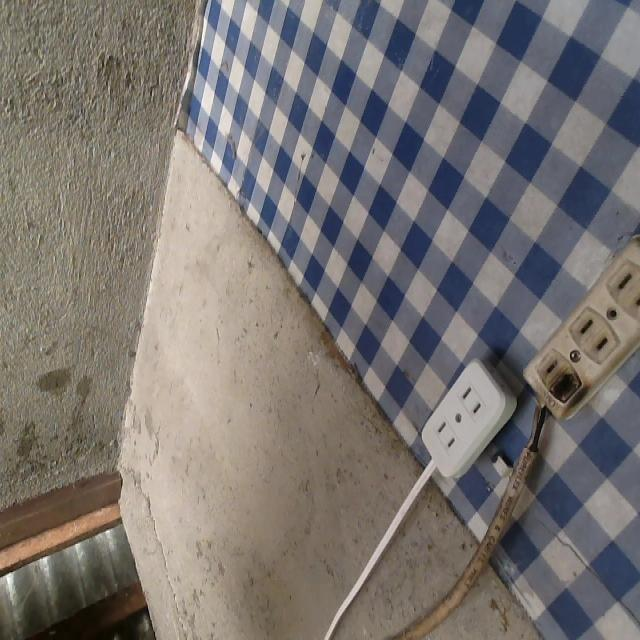-: (542, 357, 589, 416)
